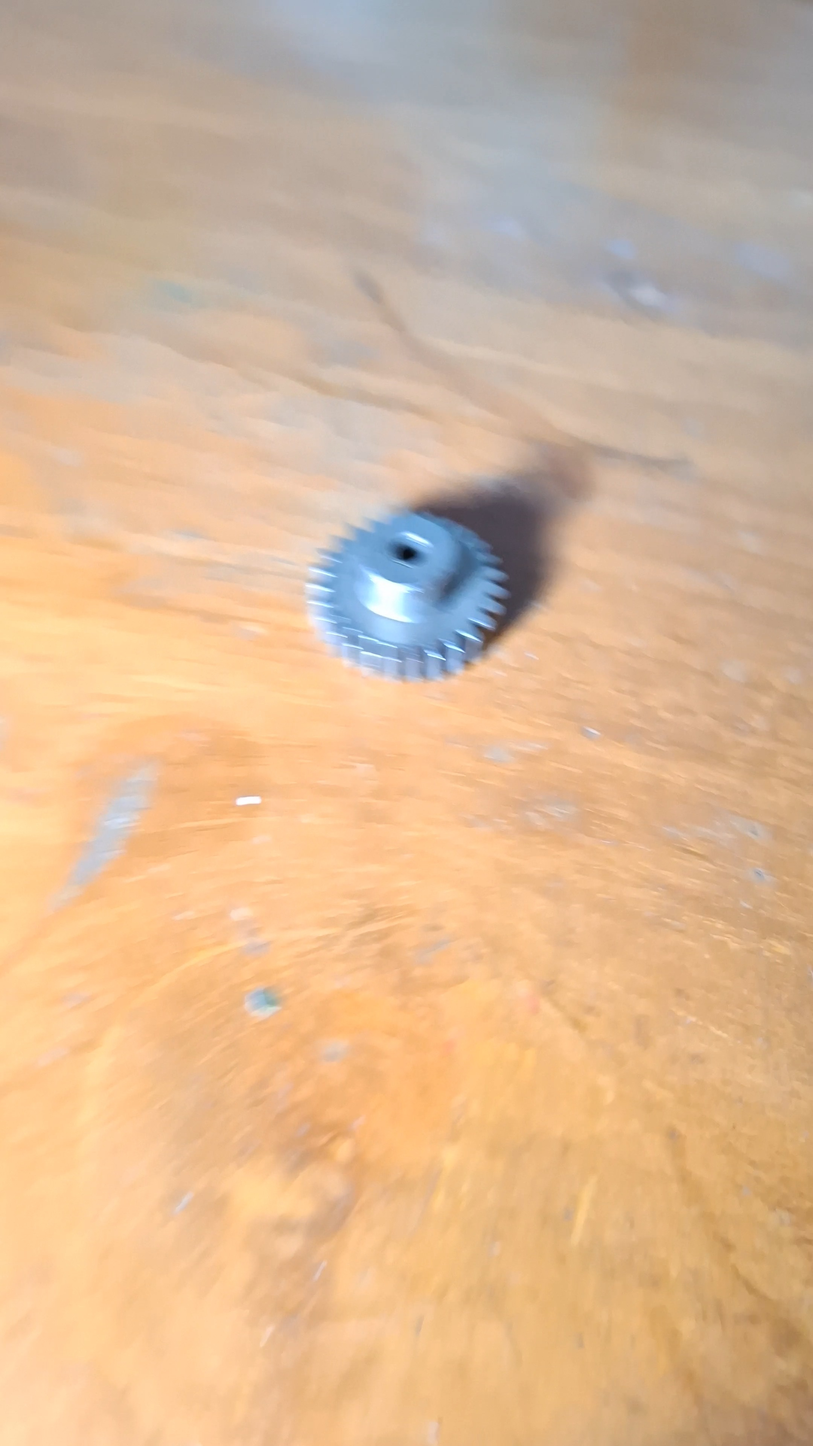spur gear: (308, 513, 507, 678)
